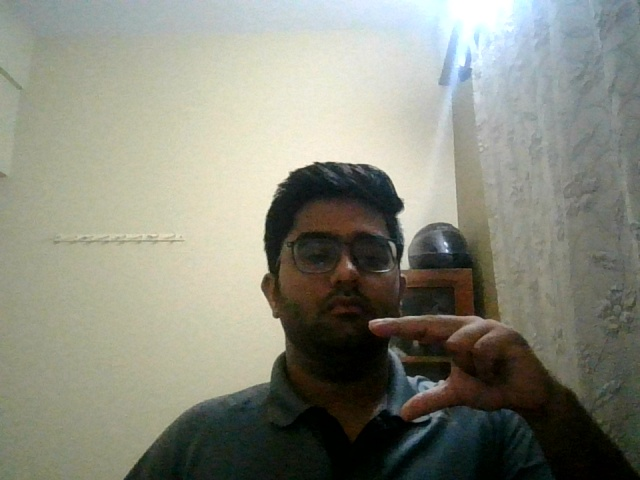No: (364, 301, 581, 440)
